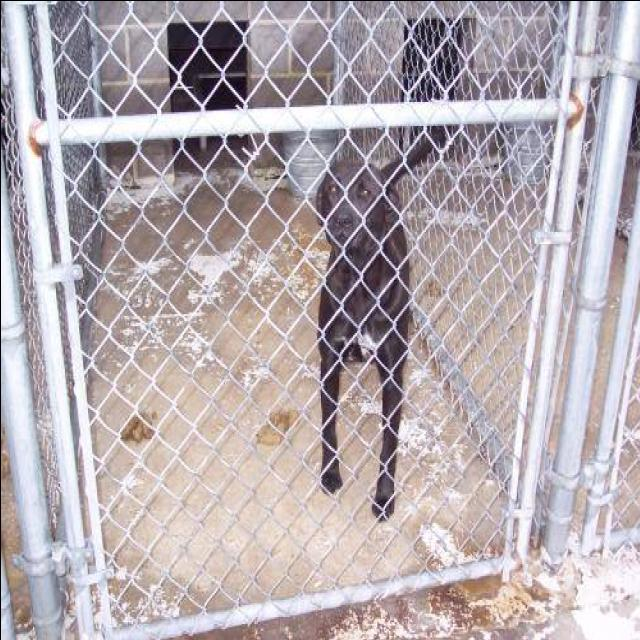dog: (286, 84, 460, 506)
